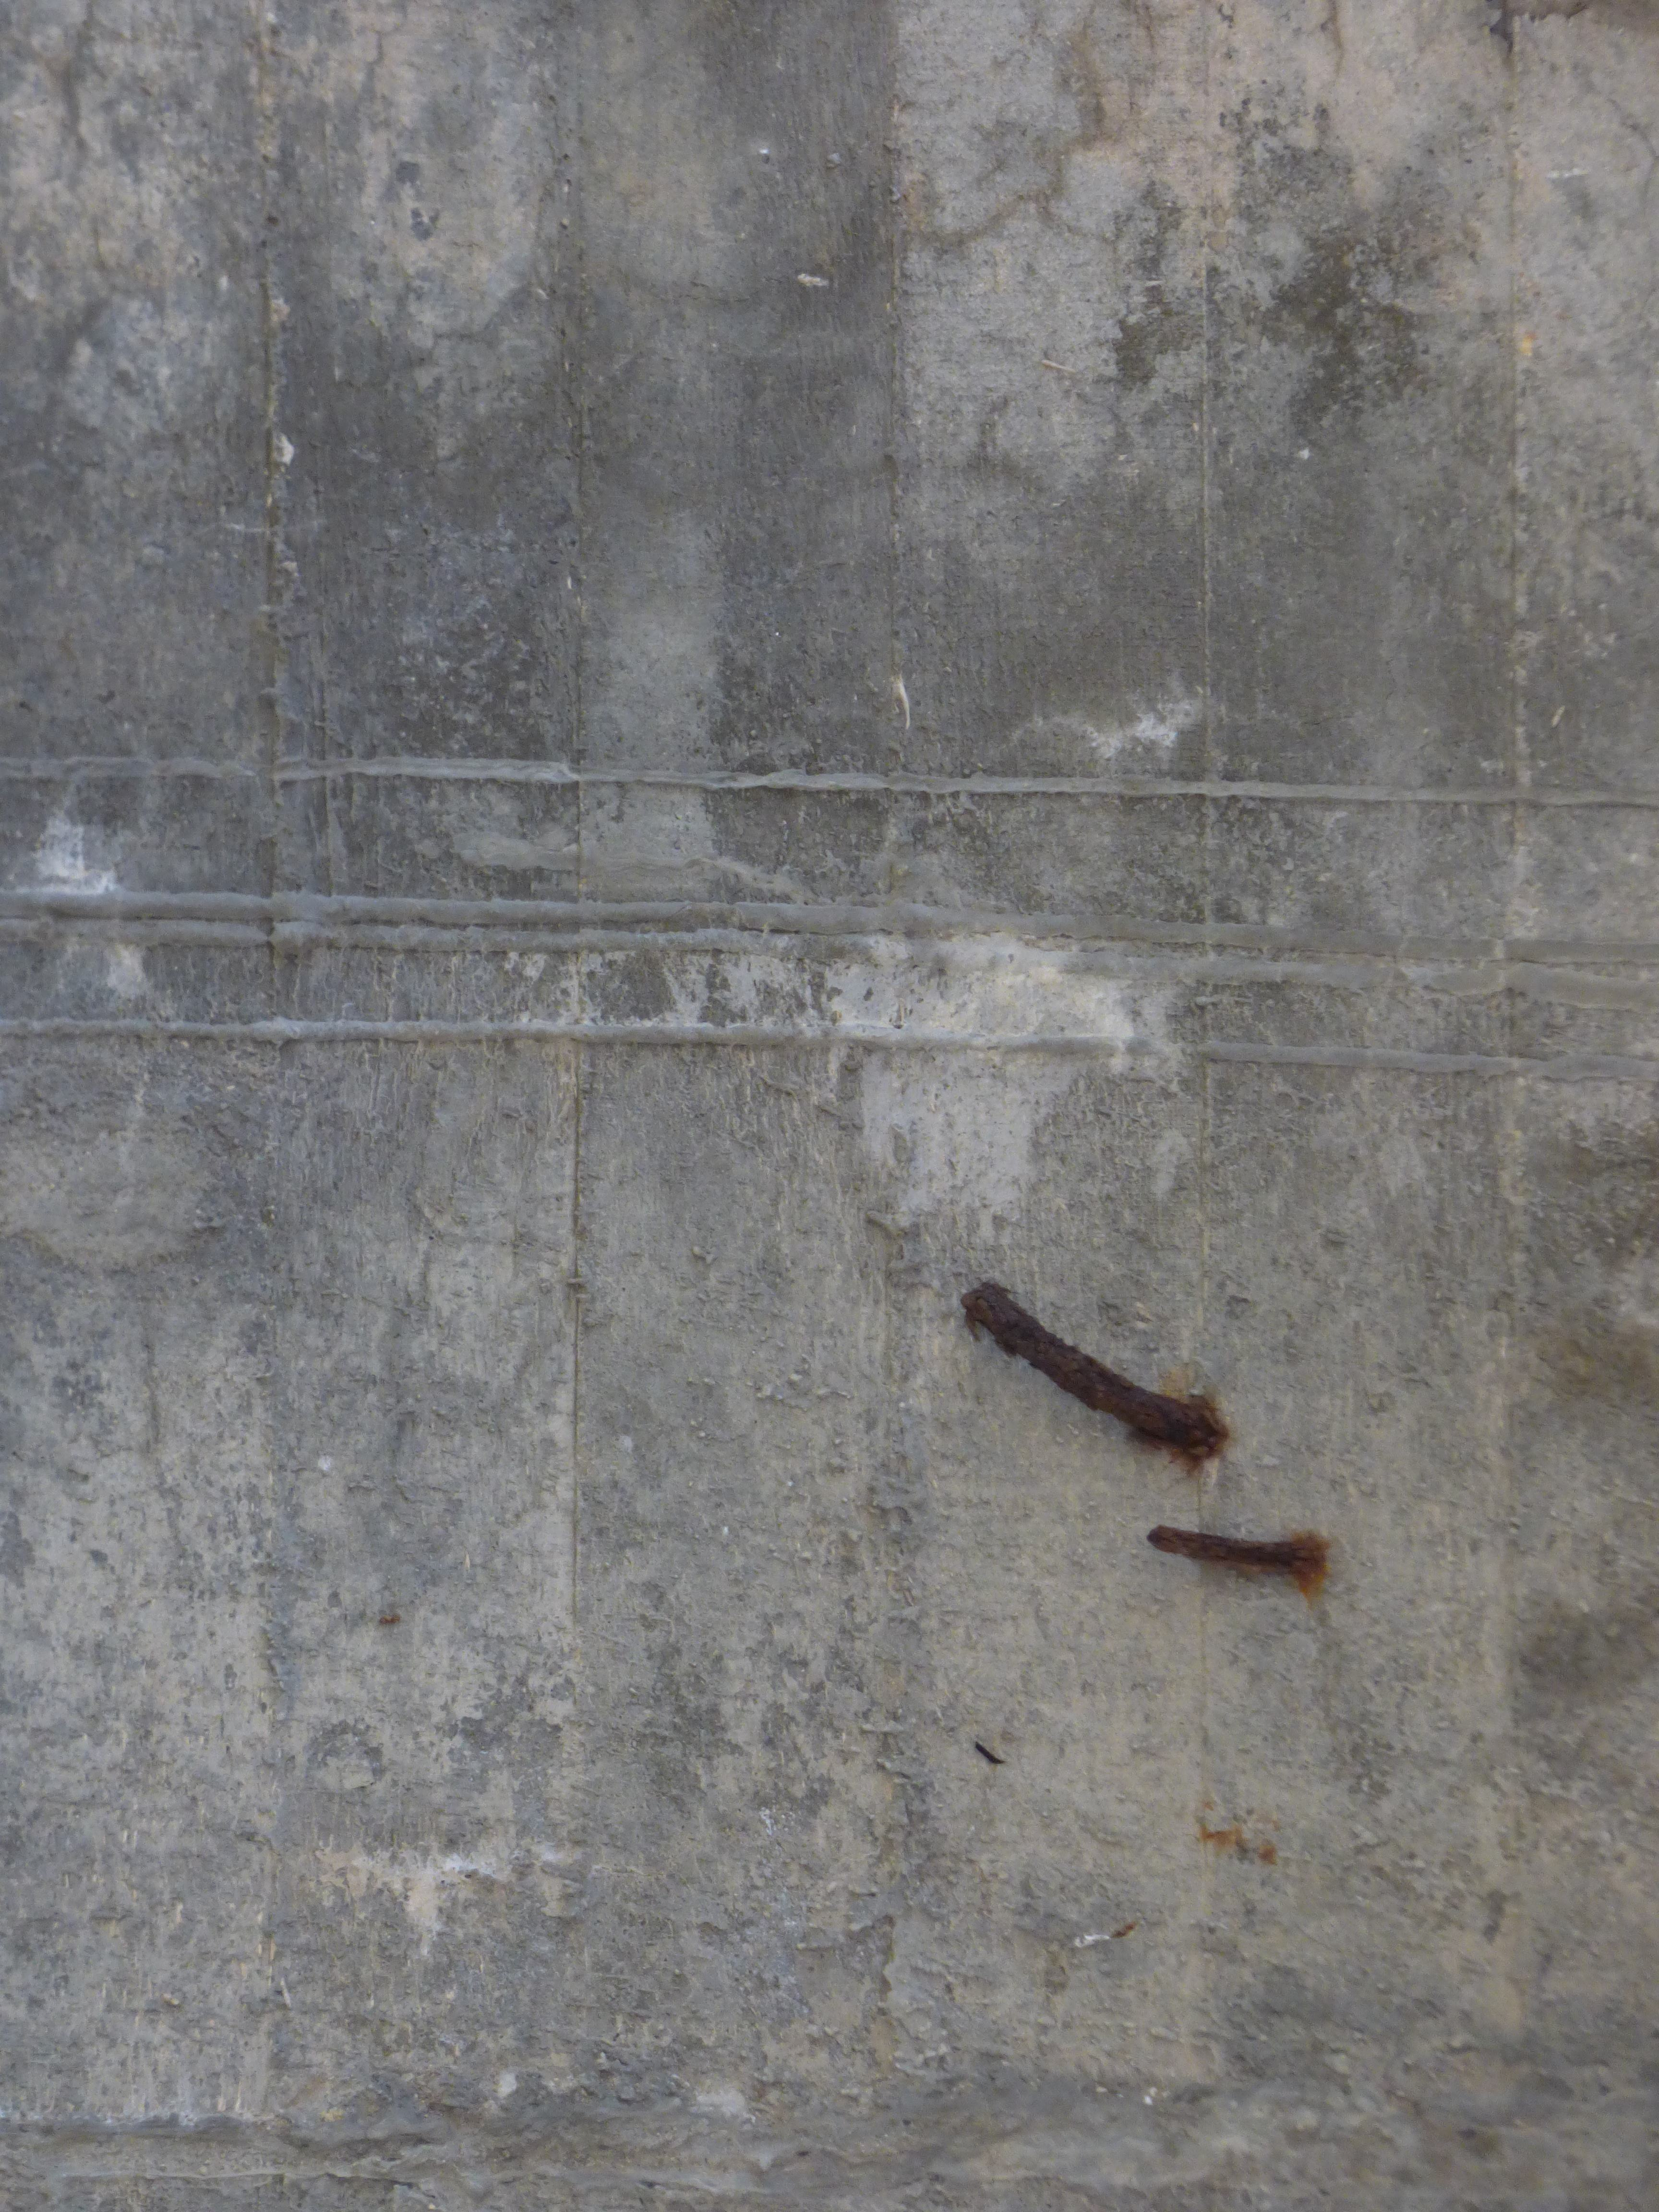Corrosion: (1199, 1822, 1277, 1865)
Exposed reinforcement: (960, 1282, 1222, 1456), (1147, 1526, 1316, 1575), (974, 1740, 1007, 1764)
